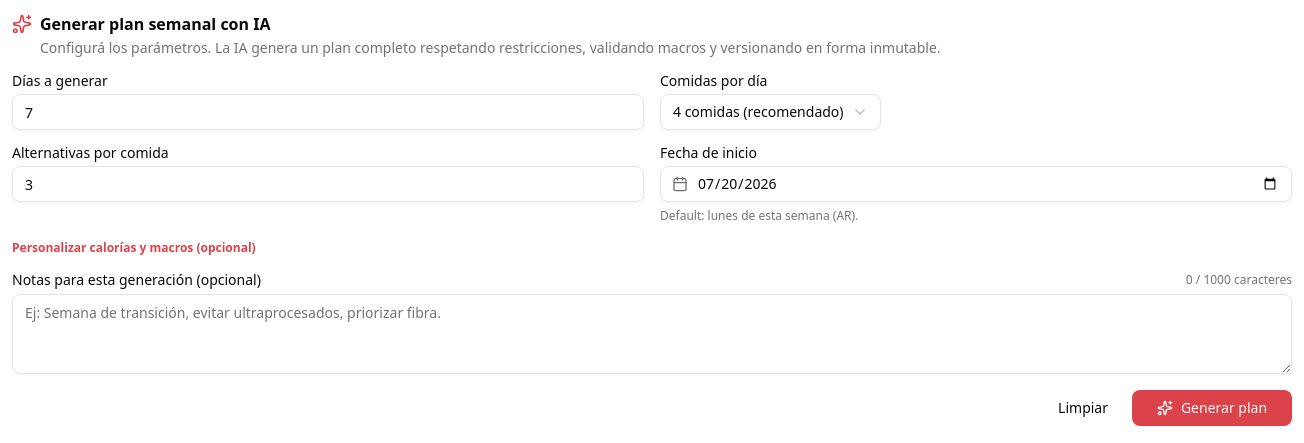
Scenario: GeneradorPlanSemanal V2 › renderiza contador de caracteres en notasGeneracion
expect the text "0 / 1000 caracteres" is shown: met, box top-left (1186, 272), bottom-right (1292, 288)
Note: Tipear texto: el contador refleja el length actualizado
In the text box with test id "notas-generacion-textarea": (652, 334) top-left (12, 294), bottom-right (1292, 374), type "Hola"
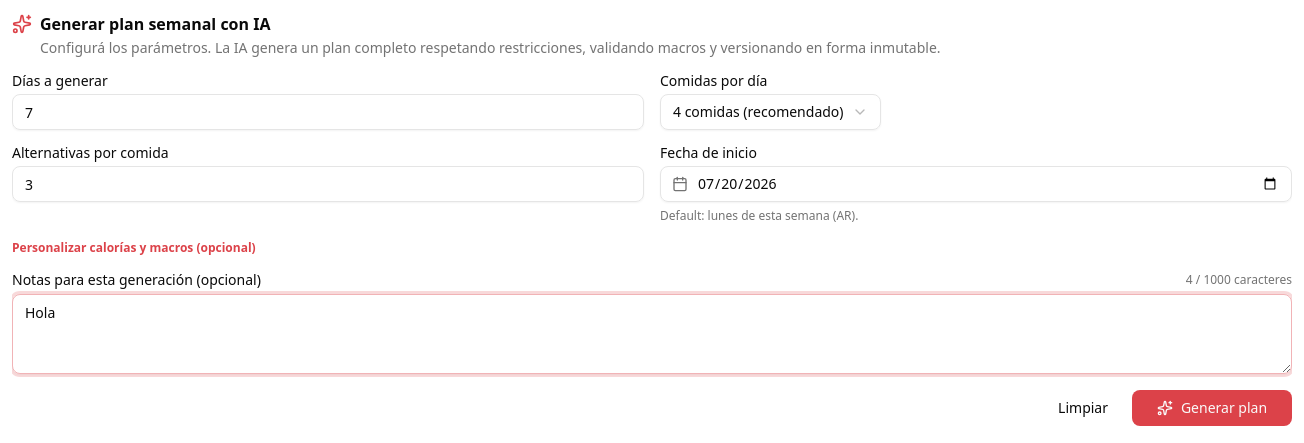
expect the text "4 / 1000 caracteres" is shown: met, box top-left (1186, 272), bottom-right (1292, 288)
